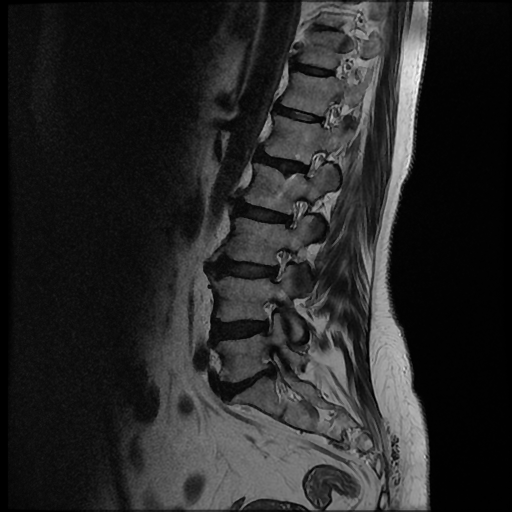LFS0: (261, 238, 297, 289), (281, 189, 314, 237), (296, 144, 329, 186)
LFS1: (249, 294, 283, 339)
